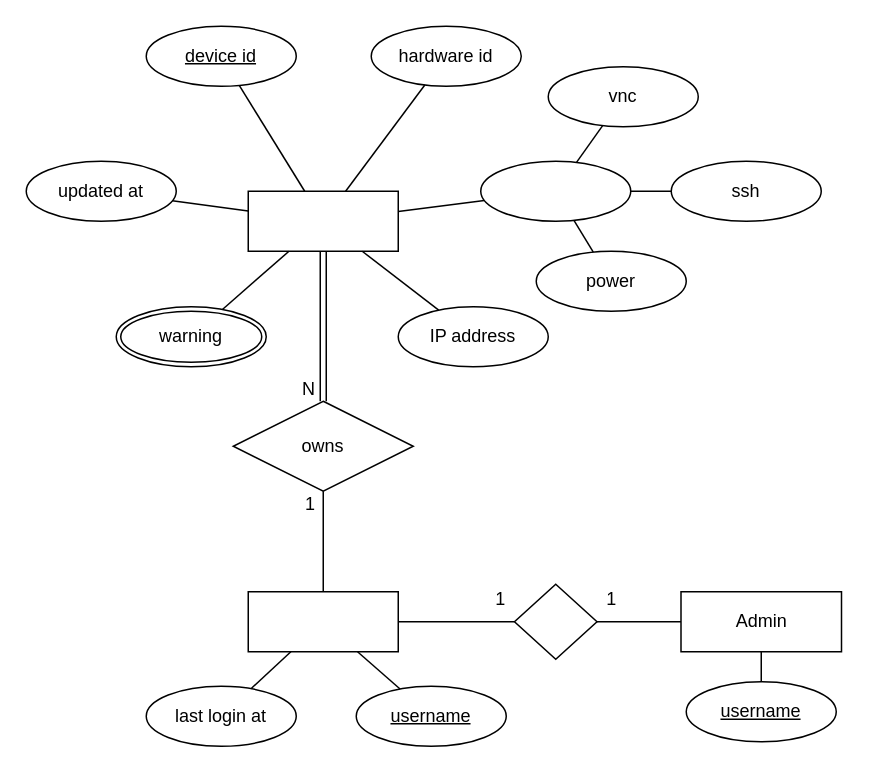
This 869x773 diagram has some shape labels left out. Here are the shapes that lost their labels. From the top down, the box of each, then its label:
(479, 160, 631, 221): status
(247, 190, 398, 251): Raspberry Pi
(247, 590, 398, 652): User
(513, 583, 597, 659): is a
